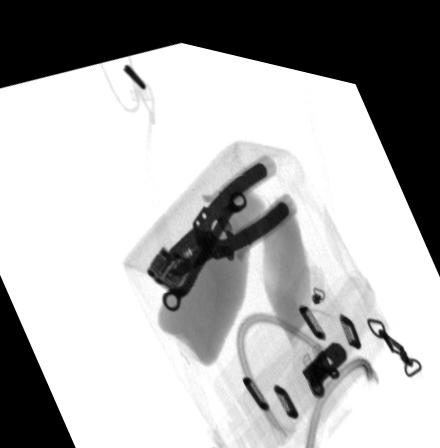Pliers: (162, 147, 289, 266)
Wrench: (161, 178, 246, 303)
